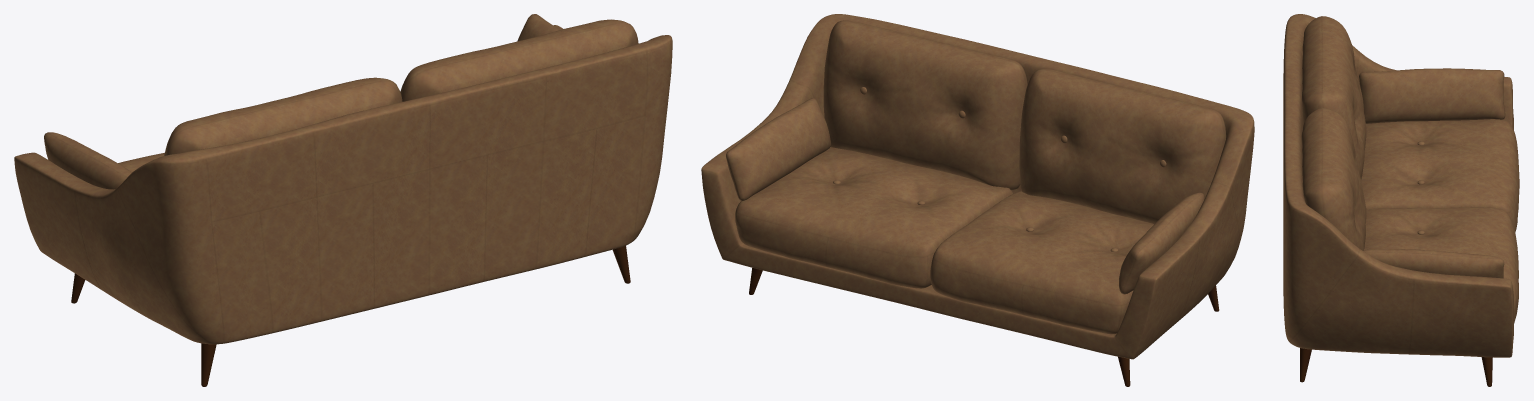
Rendered from abo_B07QBMQ4WZ.glb.
3 renders of one model, left to right at view 1: azimuth 30°, elevation 25°; view 2: azimuth 150°, elevation 25°; view 3: azimuth 270°, elevation 25°, orthographic. The views are drawn at different scales.
Parts seen in each view (by area): view 1: RootNode; view 2: RootNode; view 3: RootNode.
Part boxes in pixels (left/top/right/bottom): RootNode: left=14, top=14, right=672, bottom=386; RootNode: left=701, top=14, right=1254, bottom=386; RootNode: left=1283, top=14, right=1519, bottom=386.
Bounding box in the file's own units: 1.9 × 0.8386 × 0.9038.
Materials: 1 (1 with a texture image).
